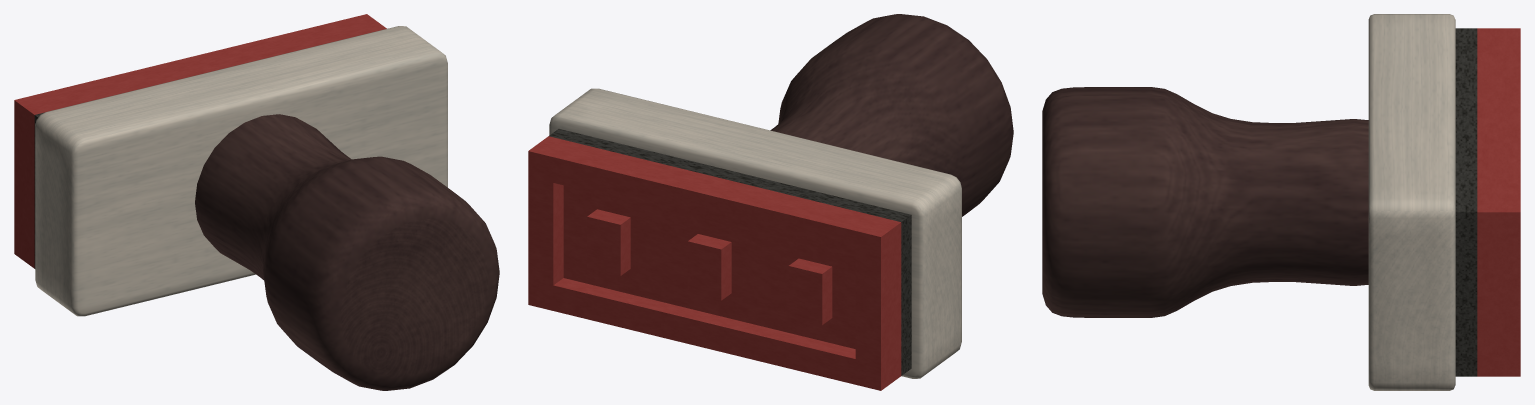
The picture shows the model from 3 angles, left to right: view 1: azimuth 30°, elevation 25°; view 2: azimuth 150°, elevation 25°; view 3: azimuth 270°, elevation 25°; orthographic projection. The views are drawn at different scales.
Visible parts, largest first — view 1: rubber_stamp; view 2: rubber_stamp; view 3: rubber_stamp.
Boxes of the visible parts, x1,y1,x2,y2 form: rubber_stamp: (14, 14, 499, 390); rubber_stamp: (528, 14, 1013, 390); rubber_stamp: (1042, 14, 1520, 390).
Bounding box in the file's own units: 0.064 × 0.032 × 0.066.
1 material, 1 textured.
